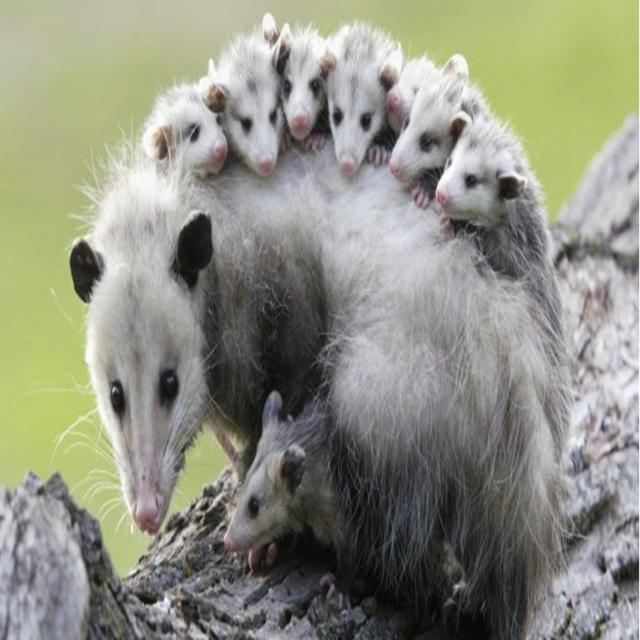possum: (70, 148, 567, 639), (435, 111, 561, 341), (224, 391, 344, 554), (389, 54, 487, 207), (203, 14, 296, 175), (327, 24, 404, 176), (143, 86, 227, 173), (278, 26, 331, 140), (386, 56, 441, 134)
